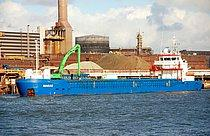Ship: (17, 53, 208, 98)
